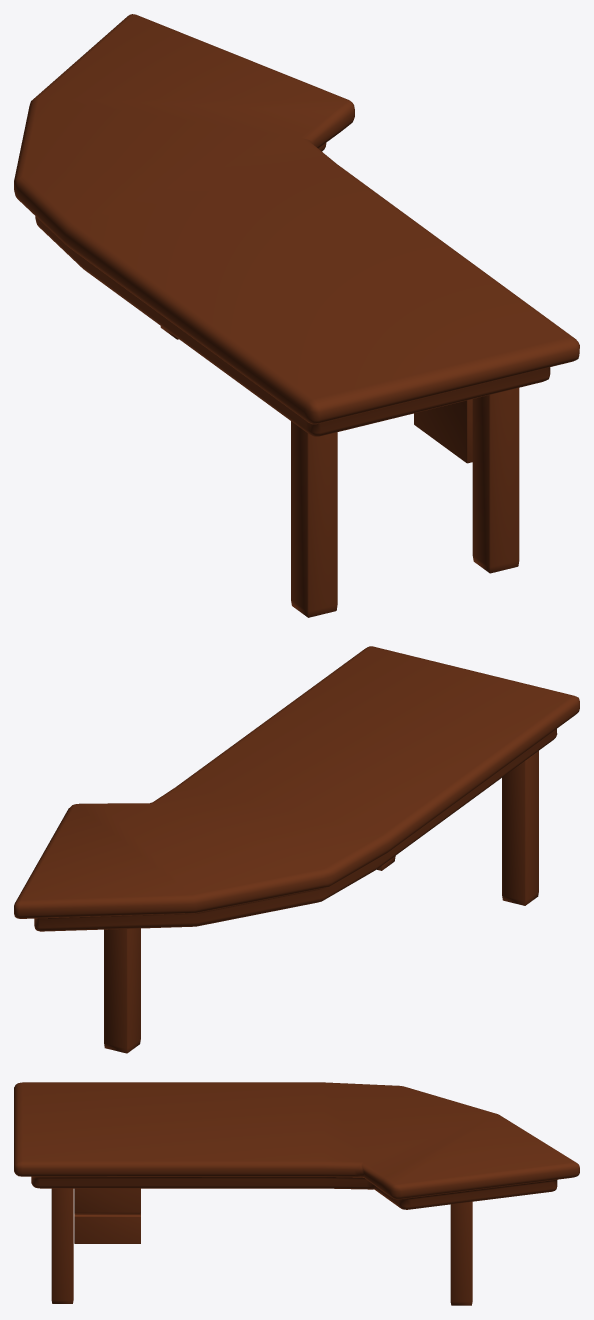
File: Desk.fbx
The picture shows the model from 3 angles, top to bottom: view 1: azimuth 30°, elevation 25°; view 2: azimuth 150°, elevation 25°; view 3: azimuth 270°, elevation 25°; orthographic projection. The views are drawn at different scales.
Visible parts, largest first — view 1: Plane.006, Cube.031, Cube.030, Cube.033; view 2: Plane.006, Cube.031, Cube.032; view 3: Plane.006, Cube.033, Cube.030, Cube.032.
Boxes of the visible parts, x1,y1,x2,y2 form: Plane.006: [14, 14, 579, 436]; Cube.031: [291, 421, 337, 617]; Cube.030: [472, 388, 519, 573]; Cube.033: [414, 399, 472, 463]; Plane.006: [14, 646, 579, 931]; Cube.031: [502, 751, 538, 905]; Cube.032: [104, 928, 140, 1053]; Plane.006: [14, 1082, 579, 1209]; Cube.033: [74, 1188, 140, 1243]; Cube.030: [51, 1188, 73, 1303]; Cube.032: [450, 1201, 472, 1305].
Bounding box in the file's own units: 254 × 169 × 573.
